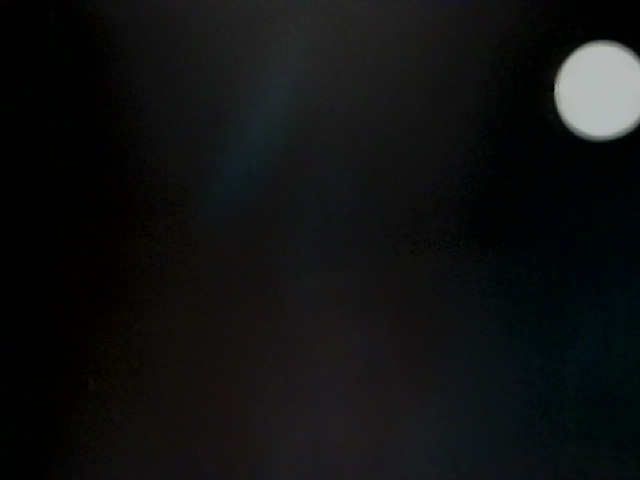KHSLJ: (62, 3, 372, 295)
